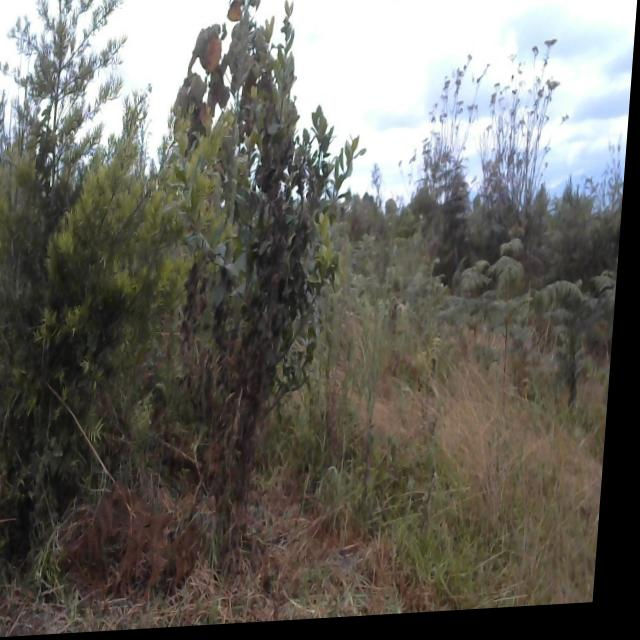cedrus: (0, 0, 213, 640)
other: (158, 0, 379, 476)
